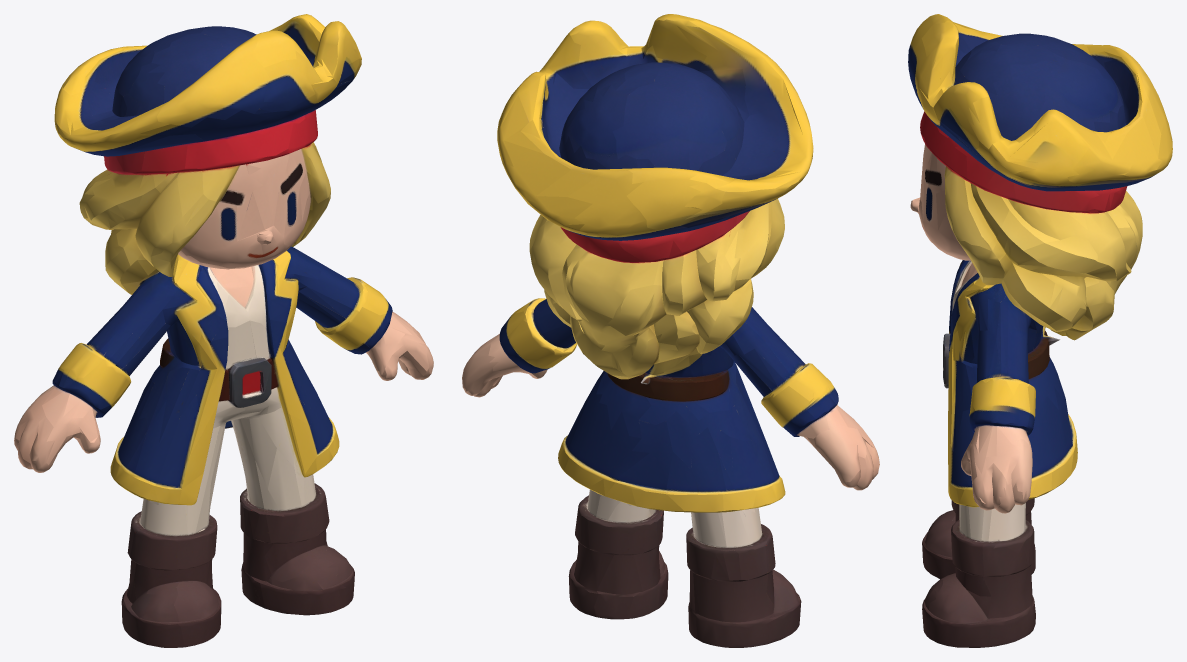
Rendered from margot_reduziert_statisch.glb.
The picture shows the model from 3 angles, left to right: view 1: azimuth 30°, elevation 25°; view 2: azimuth 150°, elevation 25°; view 3: azimuth 270°, elevation 25°; orthographic projection.
Parts seen in each view (by area): view 1: output_unwrapped; view 2: output_unwrapped; view 3: output_unwrapped.
Boxes of the visible parts, x1=… form: output_unwrapped: x1=14, y1=14, x2=433, y2=647; output_unwrapped: x1=462, y1=14, x2=879, y2=647; output_unwrapped: x1=908, y1=14, x2=1172, y2=647.
Bounding box in the file's own units: 1.39 × 1.9 × 0.7899.
1 material, 1 textured.
